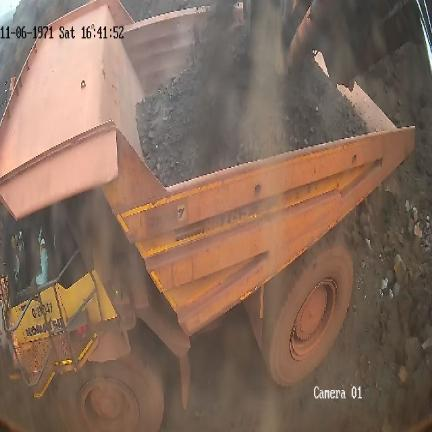pile: (135, 26, 366, 187), (345, 120, 432, 429)
